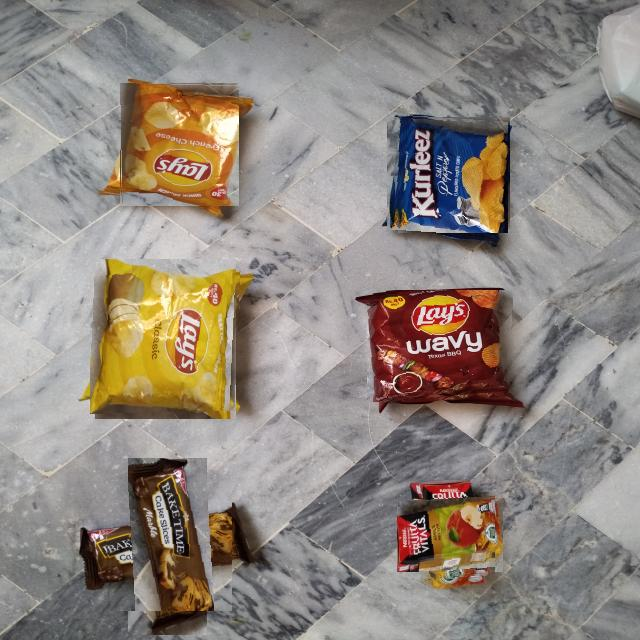Plastic: (90, 264, 241, 414), (367, 290, 514, 403), (103, 483, 232, 611), (119, 82, 239, 206), (390, 114, 508, 233), (405, 492, 495, 580)
